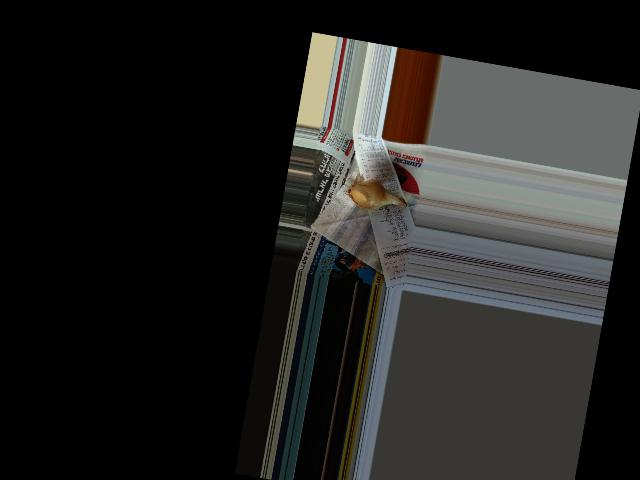onion: (345, 178, 393, 215)
